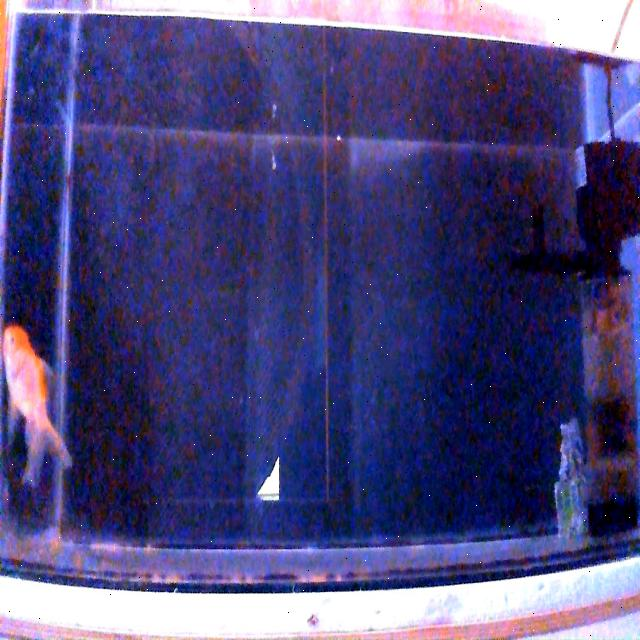fish: (2, 324, 72, 488)
